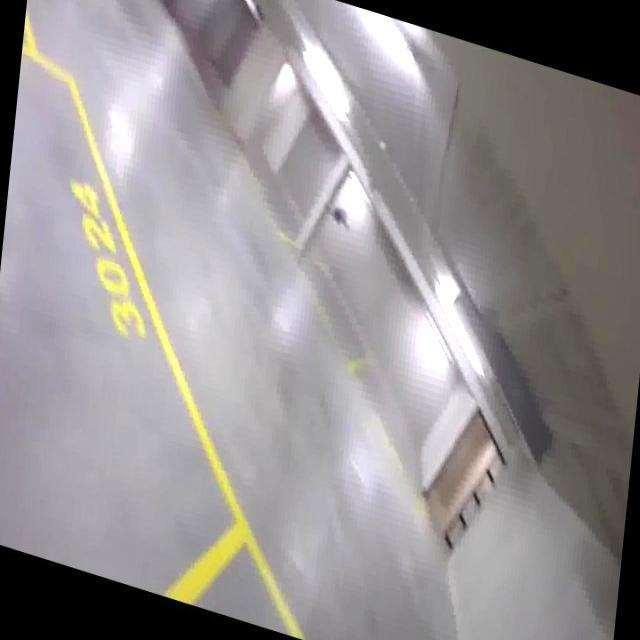drone: (323, 189, 353, 239)
